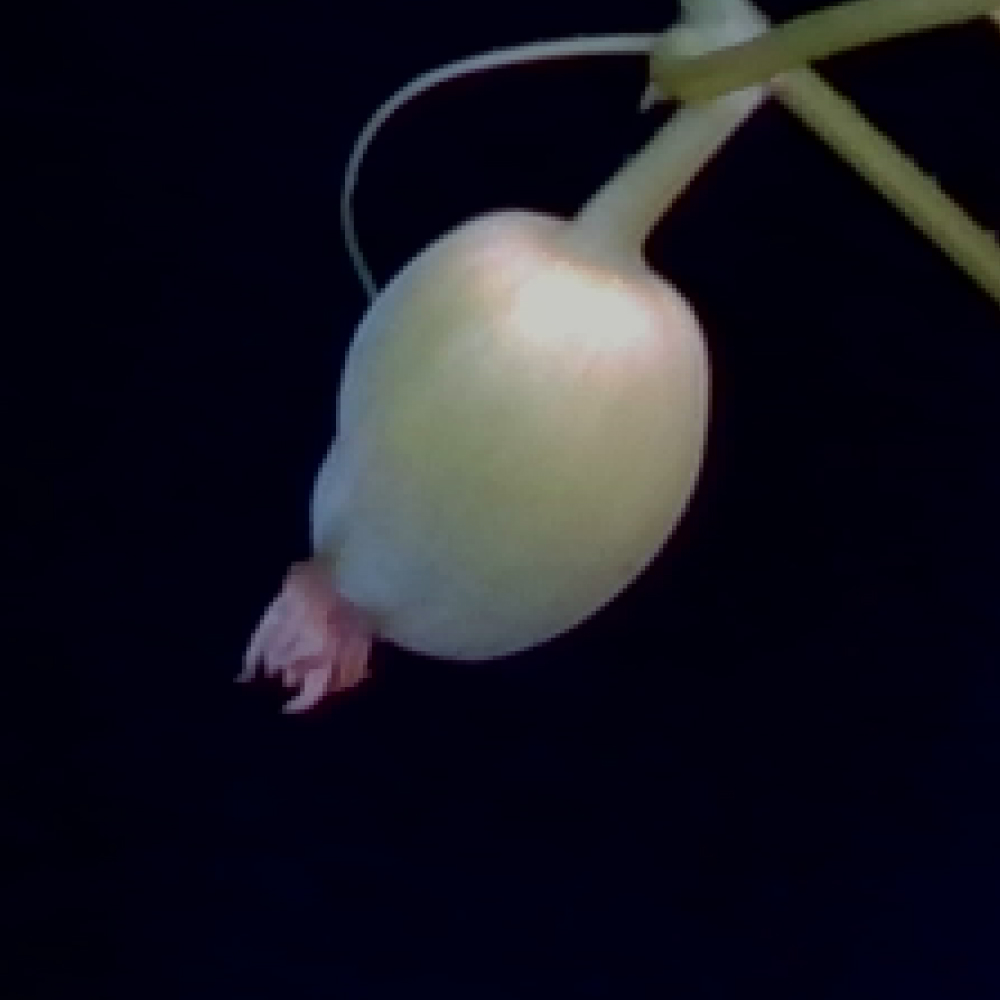melon: (308, 202, 718, 675)
